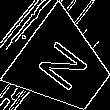N_SE: (32, 35, 95, 97)
